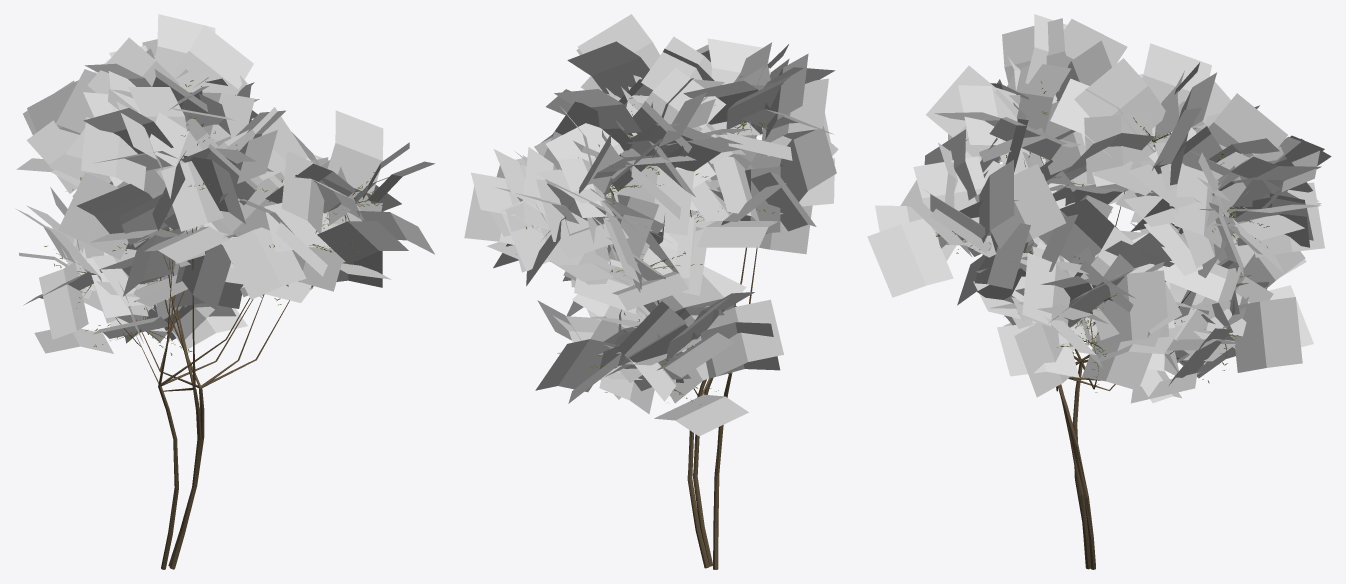
Rendered from Bruyere_Ancien_LOD1.fbx.
3 views of the same model, side by side, from view 1: azimuth 30°, elevation 25°; view 2: azimuth 150°, elevation 25°; view 3: azimuth 270°, elevation 25° (orthographic). The views are drawn at different scales.
Parts seen in each view (by area): view 1: Bruyere_Ancien_LOD1; view 2: Bruyere_Ancien_LOD1; view 3: Bruyere_Ancien_LOD1.
Boxes of the visible parts, <box> form: Bruyere_Ancien_LOD1: <box>15,14,434,569</box>; Bruyere_Ancien_LOD1: <box>464,14,838,569</box>; Bruyere_Ancien_LOD1: <box>867,14,1331,569</box>.
Bounding box in the file's own units: 268 × 390 × 316.
